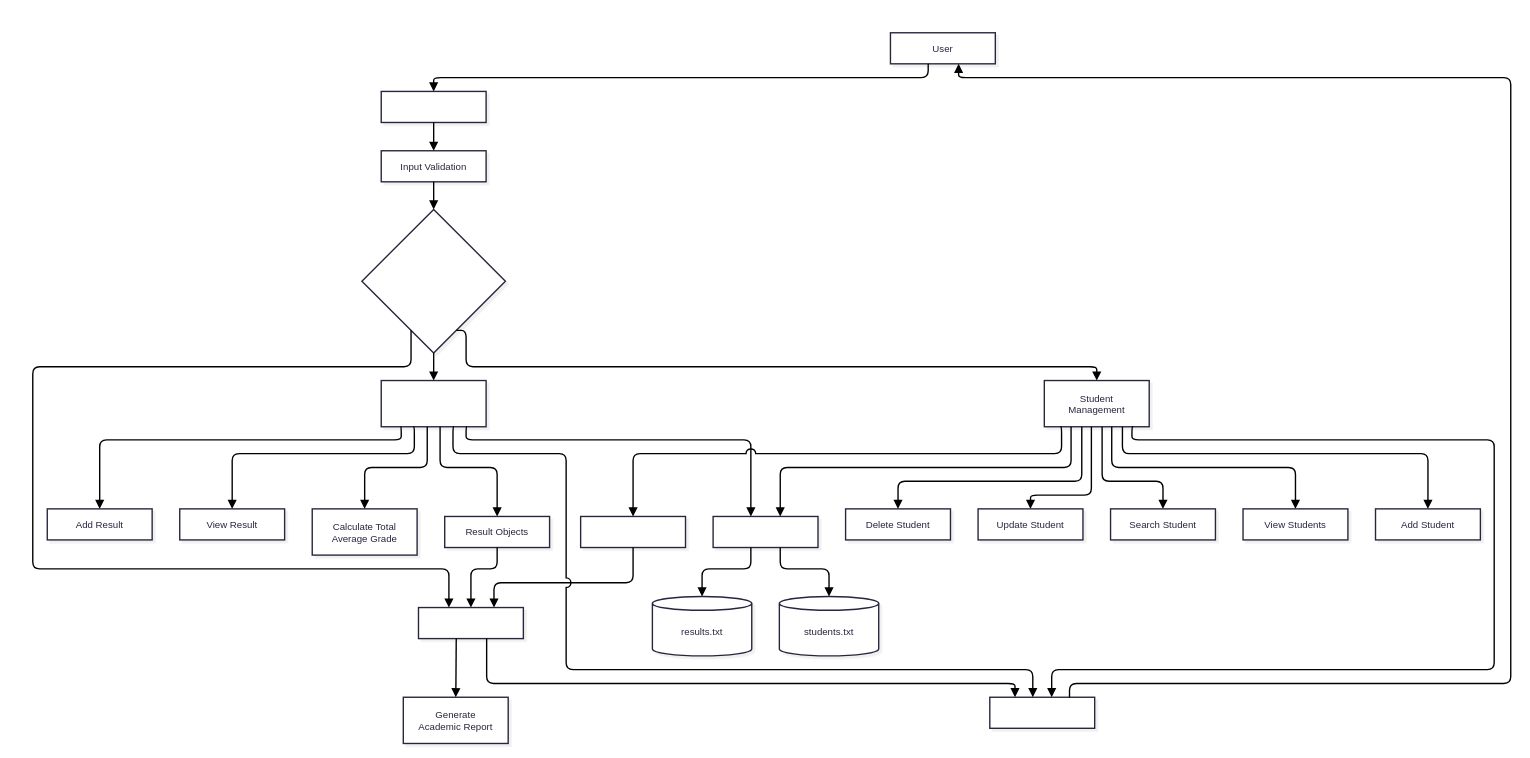
Some shapes in this 1530 by 758 pixel diagram are drawn without their labels. The centre of each missing label's shape, as x and y in pixels:
"Display Output" goes at (1043,713).
"File Manager" goes at (766,533).
"Main Program" goes at (434,108).
"Result Management" goes at (434,404).
"Select Operation" goes at (435,282).
"Student Objects" goes at (634,533).
"Student Report" goes at (471,624).
